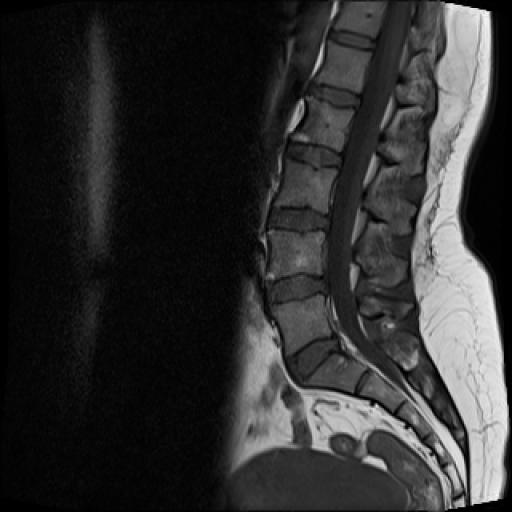L1: (314, 40, 372, 94)
L2: (290, 95, 357, 153)
L3: (273, 158, 339, 214)
L4: (266, 228, 325, 280)
L5: (269, 295, 331, 356)
S1: (302, 351, 365, 394)
